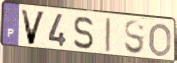4: (47, 12, 69, 49)
I: (104, 17, 112, 53)
O: (148, 22, 172, 58)
S: (123, 19, 146, 57), (73, 15, 95, 51)
V: (19, 8, 48, 47)
